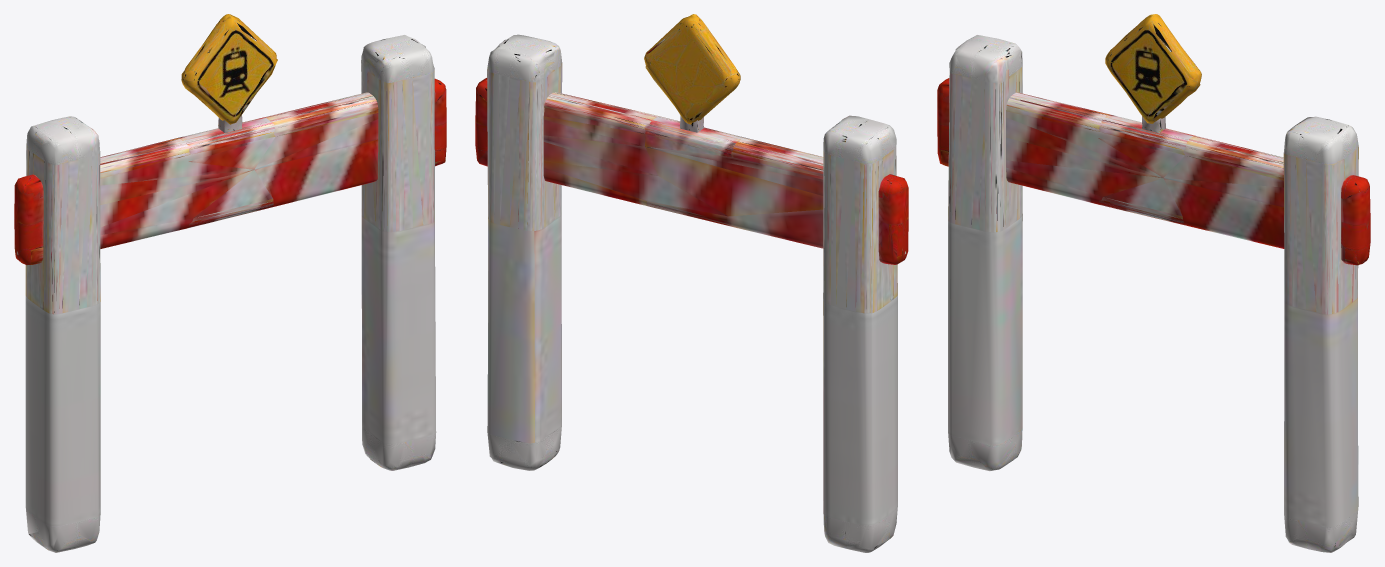
3 renders of one model, left to right at view 1: azimuth 30°, elevation 25°; view 2: azimuth 150°, elevation 25°; view 3: azimuth 330°, elevation 25°, orthographic.
Parts seen in each view (by area): view 1: geometry_0; view 2: geometry_0; view 3: geometry_0.
Part boxes in pixels (x1,y1,x2,y2): geometry_0: (14, 14, 446, 552); geometry_0: (475, 14, 908, 552); geometry_0: (937, 14, 1370, 552).
Bounding box in the file's own units: 0.8726 × 0.9507 × 0.1079.
1 material, 1 textured.
